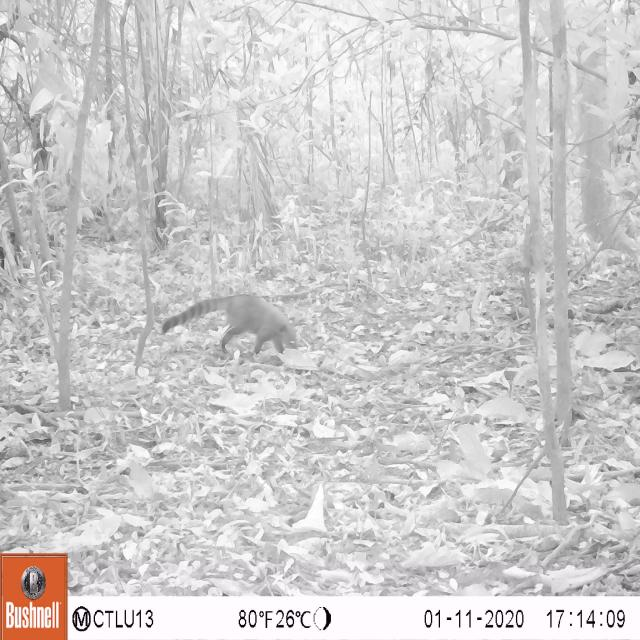South American Coati: (154, 292, 309, 362)
